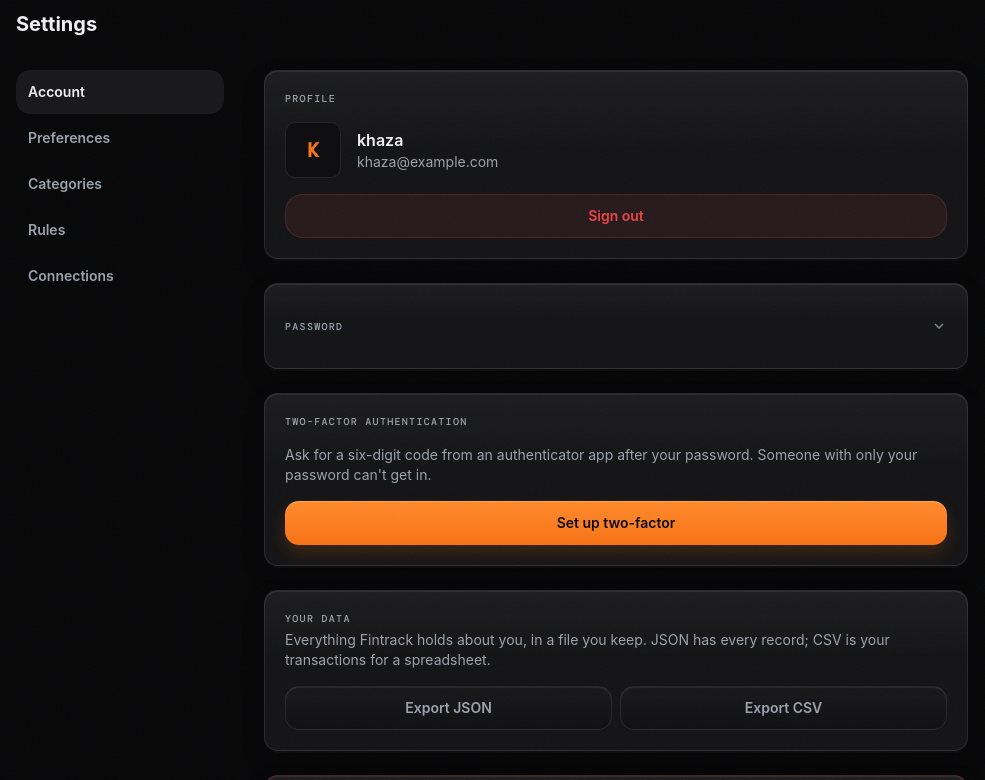
Test case: Settings categories › offers Edit and Delete on a category the user owns
Click the button "Categories" at (120, 184), box [16,162,224,206]
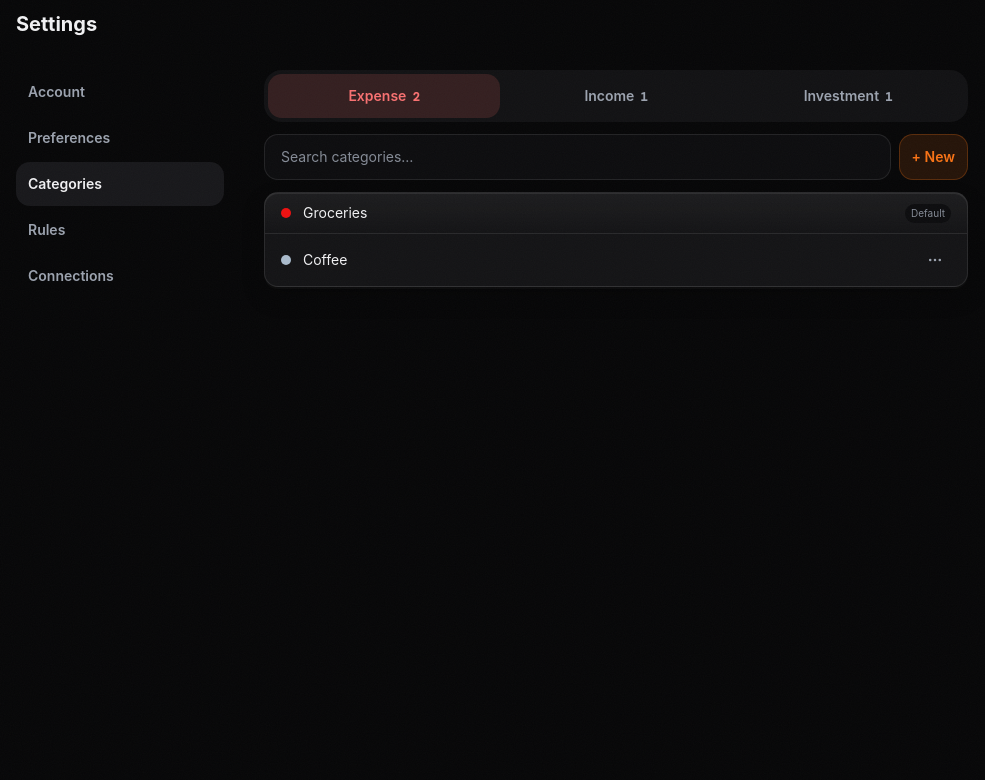
Click the button named "Coffee actions" at (935, 260), box [919,244,951,276]
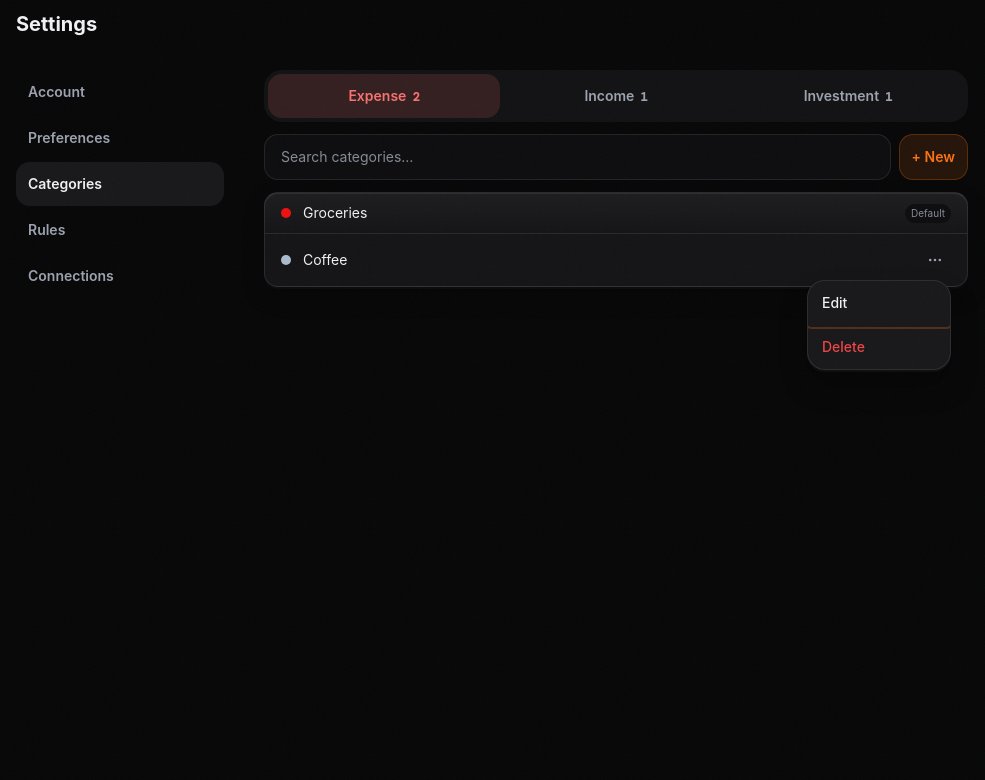
Check: the menu item "Edit" is shown, box [808,281,950,325]
Check: the menu item "Delete" is shown, box [808,325,950,369]
